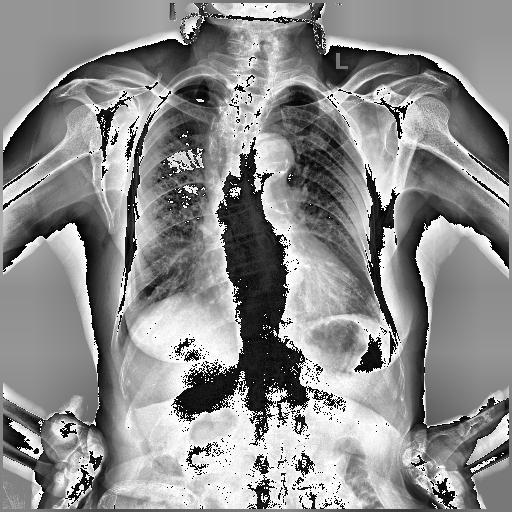0- Aortic enlargement: (244, 134, 294, 202), (244, 132, 295, 182), (249, 132, 295, 183)
2- Calcification: (278, 158, 291, 178)
3- Cardiomegaly: (199, 260, 383, 334), (208, 252, 360, 316), (196, 262, 370, 314)
9- Other lesion: (206, 80, 274, 290), (212, 85, 262, 285), (211, 104, 269, 240)
